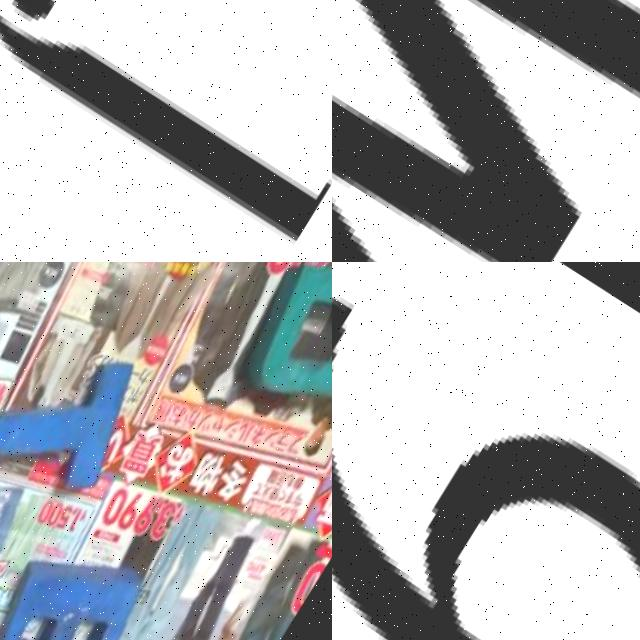9: (332, 262, 640, 640)
B: (0, 521, 155, 640)
D: (228, 262, 332, 433)
J: (0, 0, 332, 262)
T: (0, 315, 154, 515)
W: (332, 0, 640, 262)
